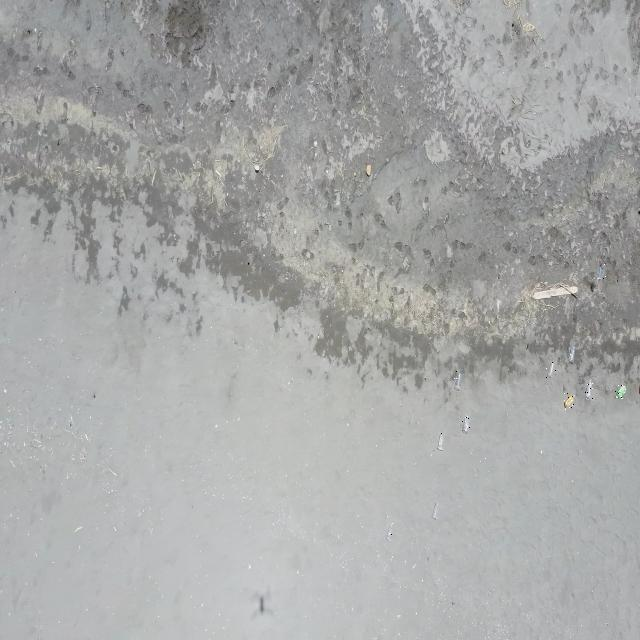plastic-bottle: (563, 393, 576, 410), (615, 385, 628, 400)
takeaway-cup: (597, 263, 607, 281), (454, 371, 463, 391), (586, 380, 594, 401), (546, 362, 556, 378), (432, 501, 440, 521), (386, 523, 394, 543), (462, 415, 470, 434), (437, 432, 444, 452), (570, 346, 578, 363)
